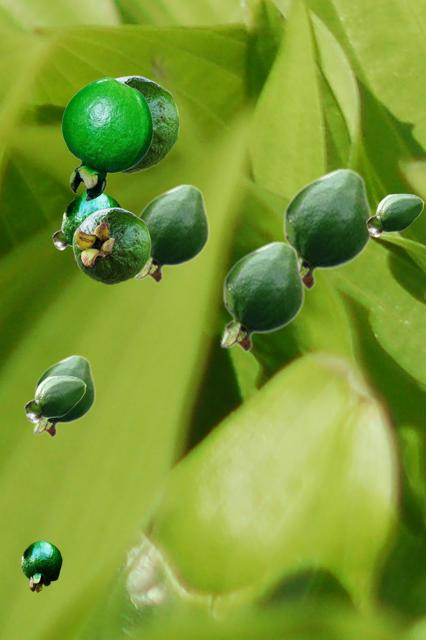guava: (280, 167, 371, 290), (61, 77, 152, 200), (220, 240, 303, 352), (134, 183, 208, 283), (115, 75, 179, 173), (72, 207, 150, 284), (33, 354, 94, 437), (62, 191, 120, 262), (24, 375, 85, 422), (366, 193, 423, 236), (21, 540, 61, 591), (52, 224, 71, 249)
